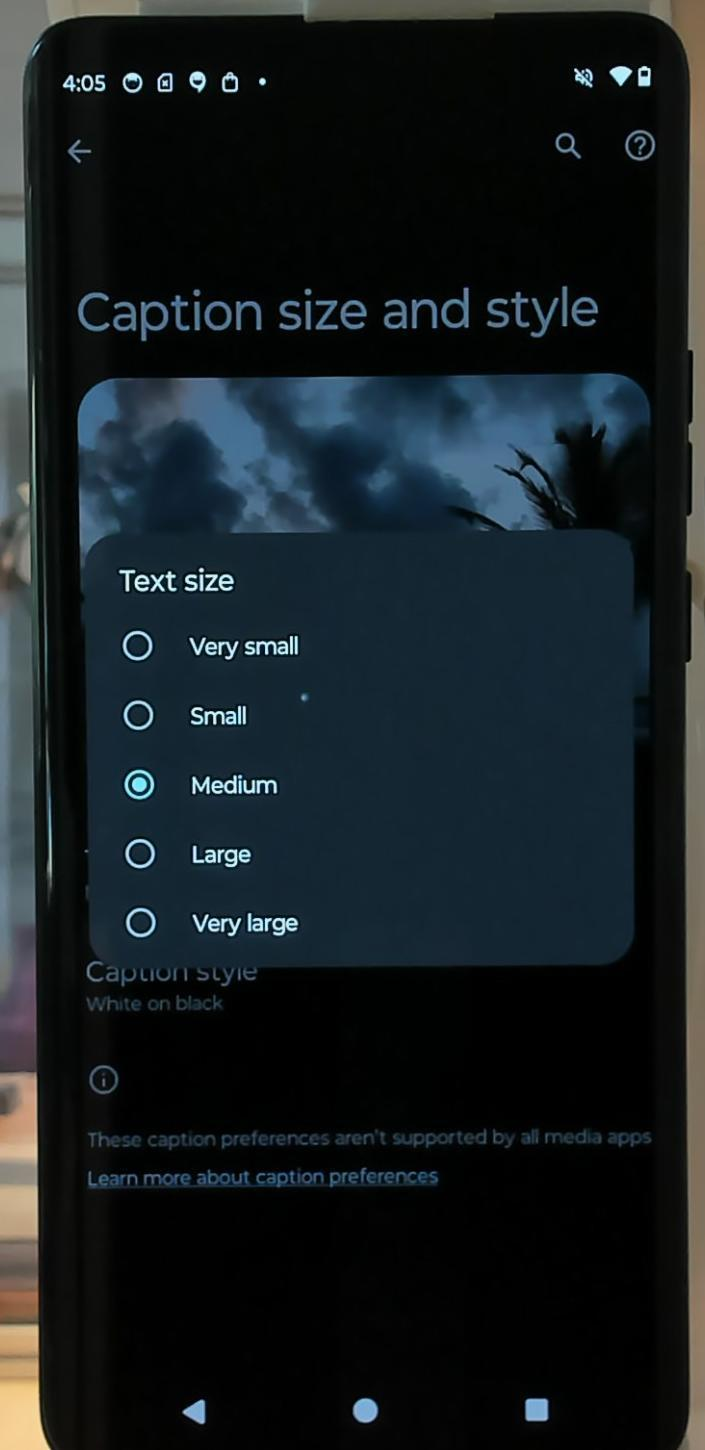RadioButton: (108, 600, 323, 683), (116, 897, 313, 946), (113, 685, 268, 746), (114, 761, 289, 810), (118, 832, 259, 876)
